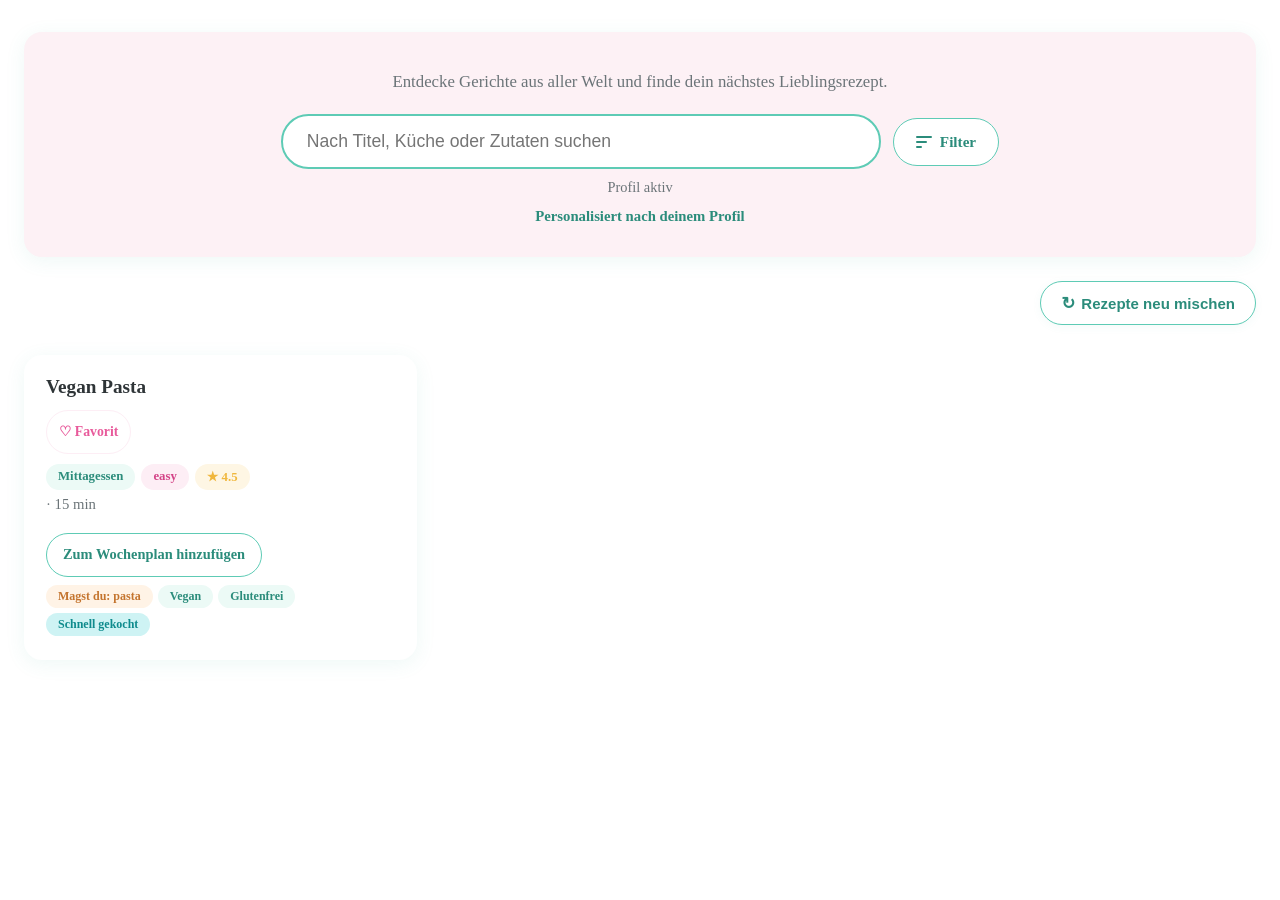
Test case: ApiRecipeList.vue › prioritizes search query over soft profile filters while keeping hard exclusions
The width and height of the screenshot is (1280, 900).
Type "rice" into the search field with placeholder "Nach Titel, Küche oder Zutaten suchen" at point(581, 142), box [281,114,881,169]
Wait 400 ms
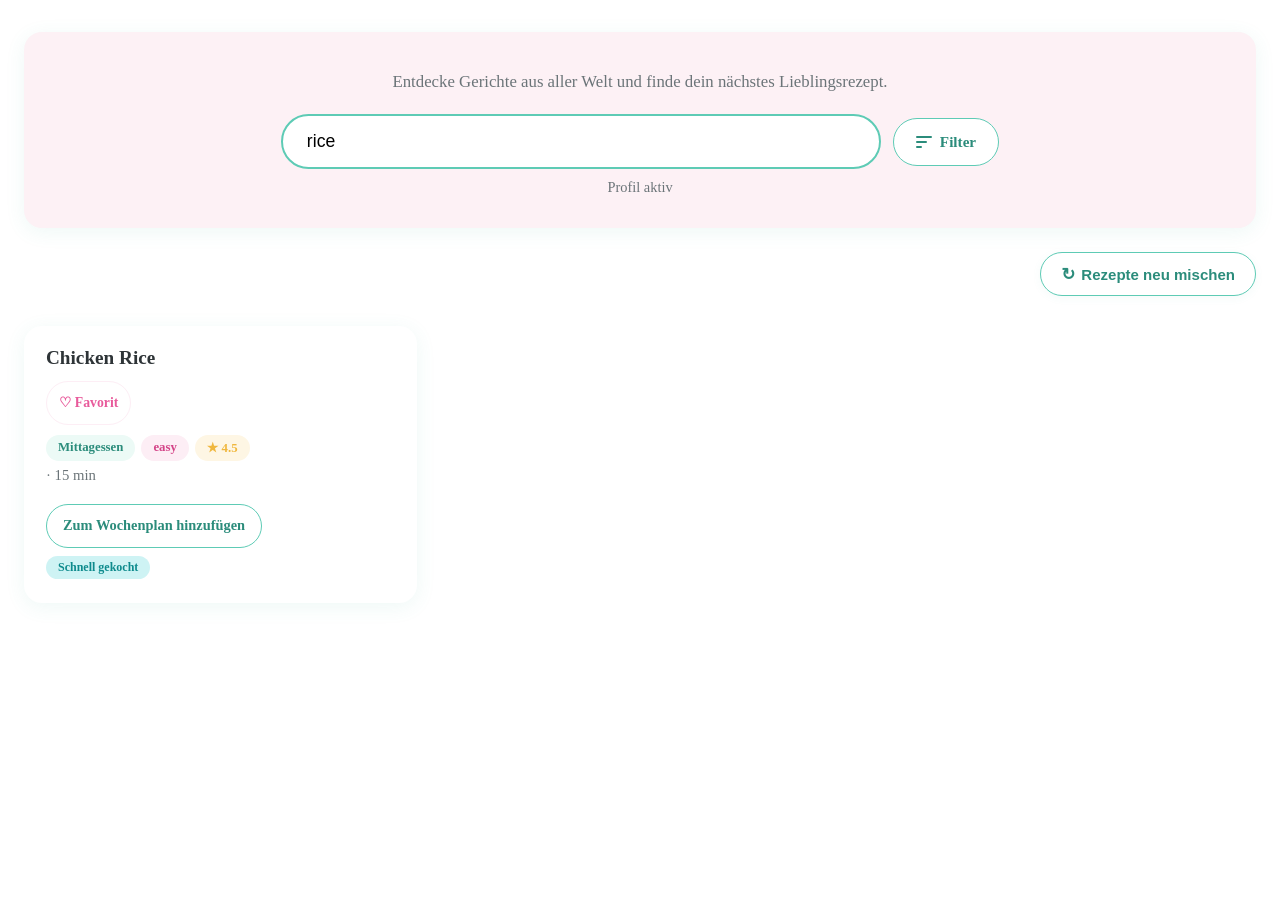
Check: the text "Chicken Rice" is shown, box [46,347,155,368]
